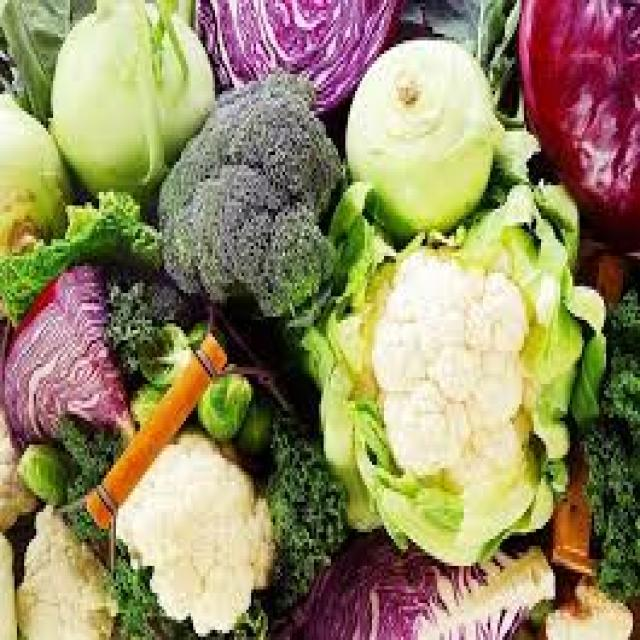organic waste: (0, 0, 638, 637), (314, 168, 601, 572), (157, 67, 338, 317), (341, 30, 536, 236), (114, 421, 268, 637), (287, 518, 558, 636), (46, 0, 210, 192), (516, 0, 638, 246), (0, 259, 130, 441), (193, 0, 391, 108), (0, 185, 159, 319), (582, 280, 638, 606), (263, 421, 343, 603), (12, 502, 118, 637), (0, 88, 65, 293), (396, 0, 519, 108), (0, 0, 94, 115), (101, 259, 179, 364), (53, 404, 109, 532), (538, 576, 638, 637), (0, 398, 36, 536), (109, 542, 157, 634), (130, 317, 191, 377), (15, 431, 65, 499), (196, 360, 248, 421), (572, 252, 628, 296), (234, 398, 276, 442), (123, 374, 167, 414), (183, 313, 220, 354), (237, 600, 273, 636), (0, 528, 12, 636)
